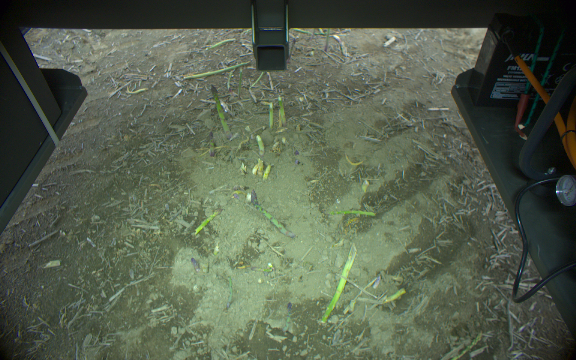aspa: (320, 240, 357, 324), (249, 189, 296, 238), (183, 59, 249, 81), (209, 84, 233, 141), (450, 331, 485, 360), (193, 205, 222, 235), (378, 287, 406, 307), (326, 208, 376, 218), (205, 37, 235, 51), (277, 97, 288, 128), (321, 29, 333, 53), (207, 130, 217, 158), (254, 132, 264, 157), (267, 100, 275, 130)
